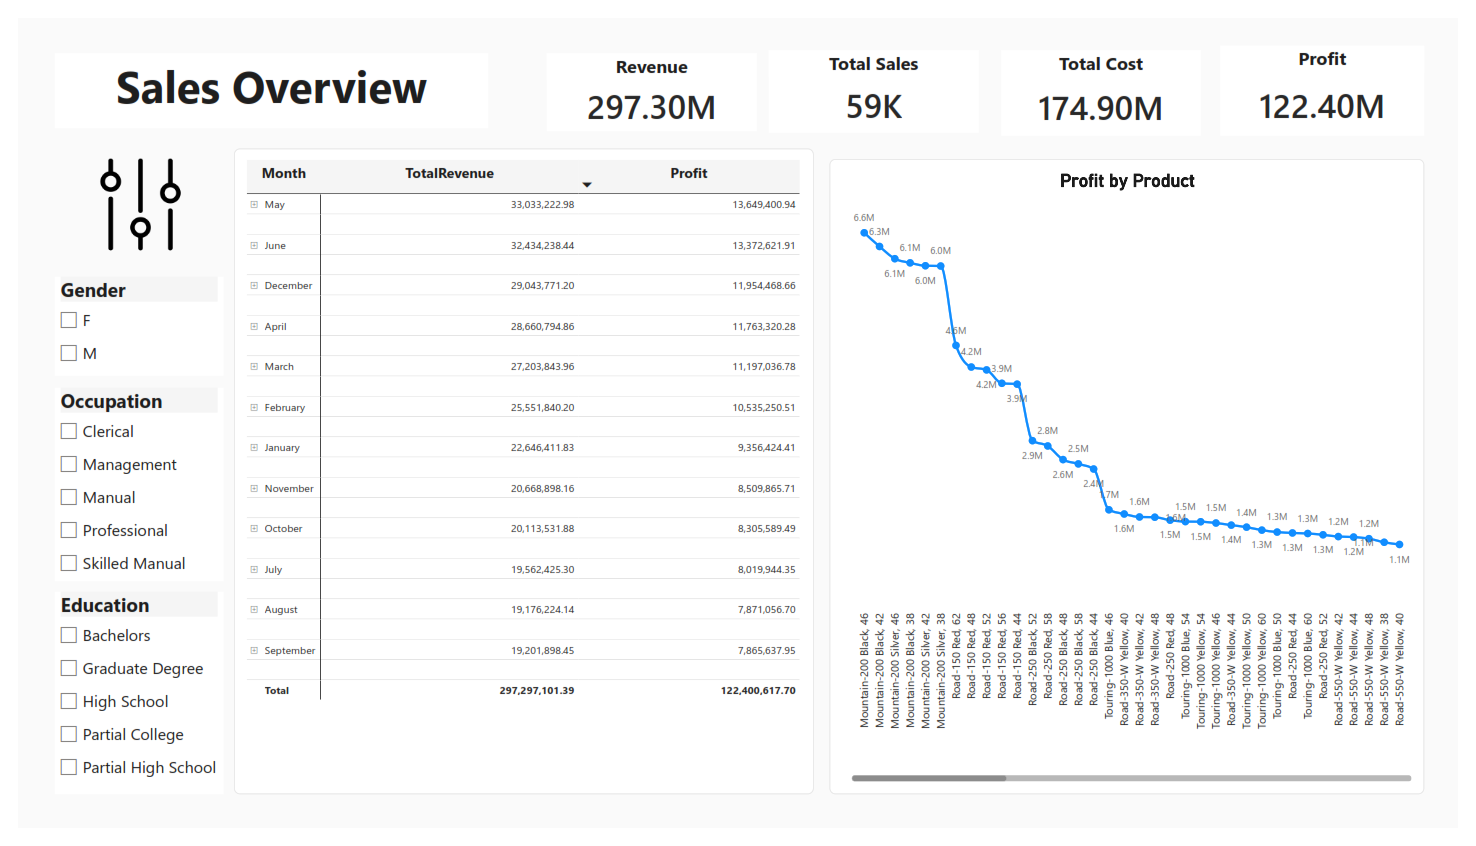

This screenshot's page, from the dashboard's own definition file:
{"tool":"powerbi","page":{"name":"Sales Overview","canvas":[1920,1080],"ordinal":0},"visuals":[{"type":"cardVisual","title":"Revenue","fields":{"Data":["SalesTable.TotalRevenue"]},"box":[705.3,46.9,280,104],"z":0},{"type":"cardVisual","title":"Total Sales","fields":{"Data":["SalesTable.TotalSales"]},"box":[1001.3,42.9,280,110],"z":1000},{"type":"cardVisual","title":"Profit","fields":{"Data":["SalesTable.Profit"]},"box":[1603.3,36.9,272,120],"z":2000},{"type":"cardVisual","title":"Total Cost","fields":{"Data":["SalesTable.TotalCostOfGoods"]},"box":[1311.3,42.9,266,114],"z":3000},{"type":"pivotTable","fields":{"Values":["SalesTable.TotalRevenue","SalesTable.Profit"],"Rows":["SalesTable.OrderDate.Variation.Date Hierarchy.Month","Geography.Country"]},"box":[288.5,173.9,772.7,861.3],"z":4000},{"type":"lineChart","title":"Profit by Product","fields":{"Y":["SalesTable.Profit"],"Category":["Product.ProductName"]},"box":[1081.8,188.3,793.3,846.9],"z":5000},{"type":"textbox","box":[49.3,46.9,578,100],"z":6000},{"type":"slicer","fields":{"Values":["Customer.Gender"]},"box":[49.5,344.9,224.6,131.9],"z":7000},{"type":"slicer","fields":{"Values":["Customer.Education"]},"box":[49.5,765.3,224.6,269.9],"z":8000},{"type":"slicer","fields":{"Values":["Customer.Occupation"]},"box":[49.5,493.3,224.6,257.6],"z":9000},{"type":"image","box":[43.3,173.9,240,150],"z":10000}]}

Visuals, with their boxes in screenshot pixels (x1, y1, x2, y2), scaled from the page's 1920x1080 canvas onto the 1476x846 screenshot:
"Revenue" cardVisual: (542,37,757,118)
"Total Sales" cardVisual: (770,34,985,120)
"Profit" cardVisual: (1233,29,1442,123)
"Total Cost" cardVisual: (1008,34,1213,123)
pivotTable - SalesTable.TotalRevenue x SalesTable.Profit: (222,136,816,811)
"Profit by Product" lineChart: (832,148,1441,811)
textbox: (38,37,482,115)
slicer - Customer.Gender: (38,270,211,373)
slicer - Customer.Education: (38,599,211,811)
slicer - Customer.Occupation: (38,386,211,588)
image: (33,136,218,254)
